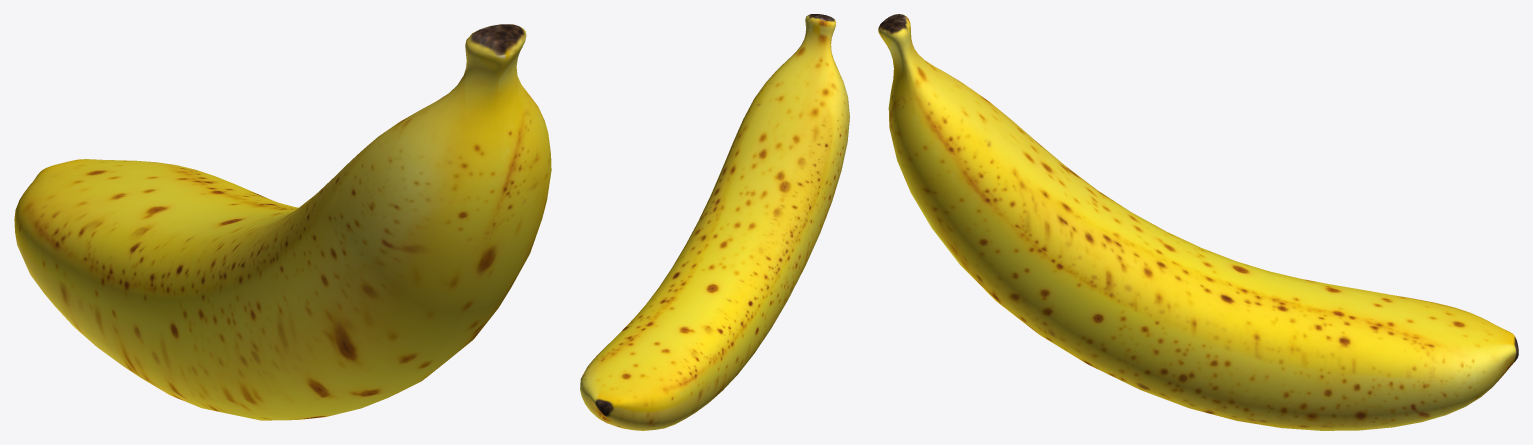
File: banana.gltf
The picture shows the model from 3 angles, left to right: view 1: azimuth 30°, elevation 25°; view 2: azimuth 150°, elevation 25°; view 3: azimuth 270°, elevation 25°; orthographic projection. The views are drawn at different scales.
Visible parts, largest first — view 1: Cube; view 2: Cube; view 3: Cube.
Boxes of the visible parts, box(x1,y1,x2,y2) form: Cube: box(14, 24, 551, 420); Cube: box(580, 14, 849, 430); Cube: box(878, 14, 1518, 430).
Bounding box in the file's own units: 2.22 × 6.16 × 8.86.
1 material, 1 textured.
